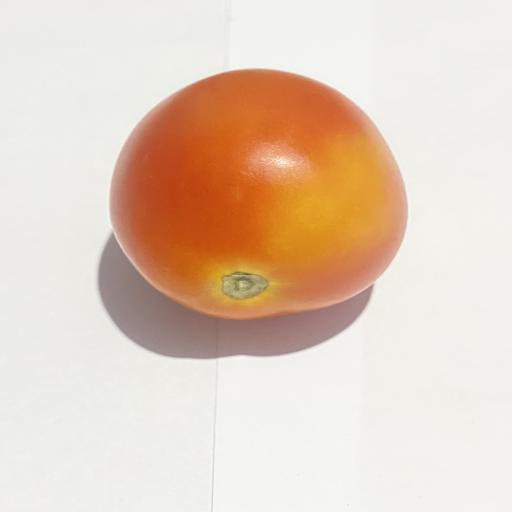ripe: (110, 69, 407, 319)
